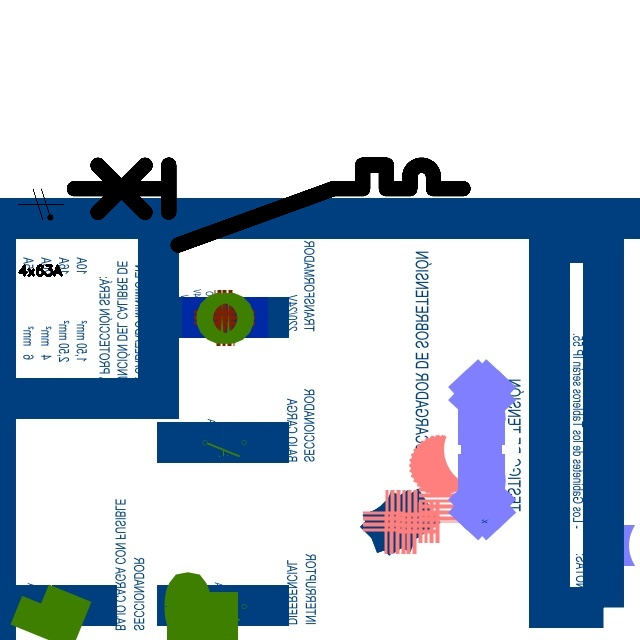interruptor_termomagnetico: (64, 155, 473, 255)
